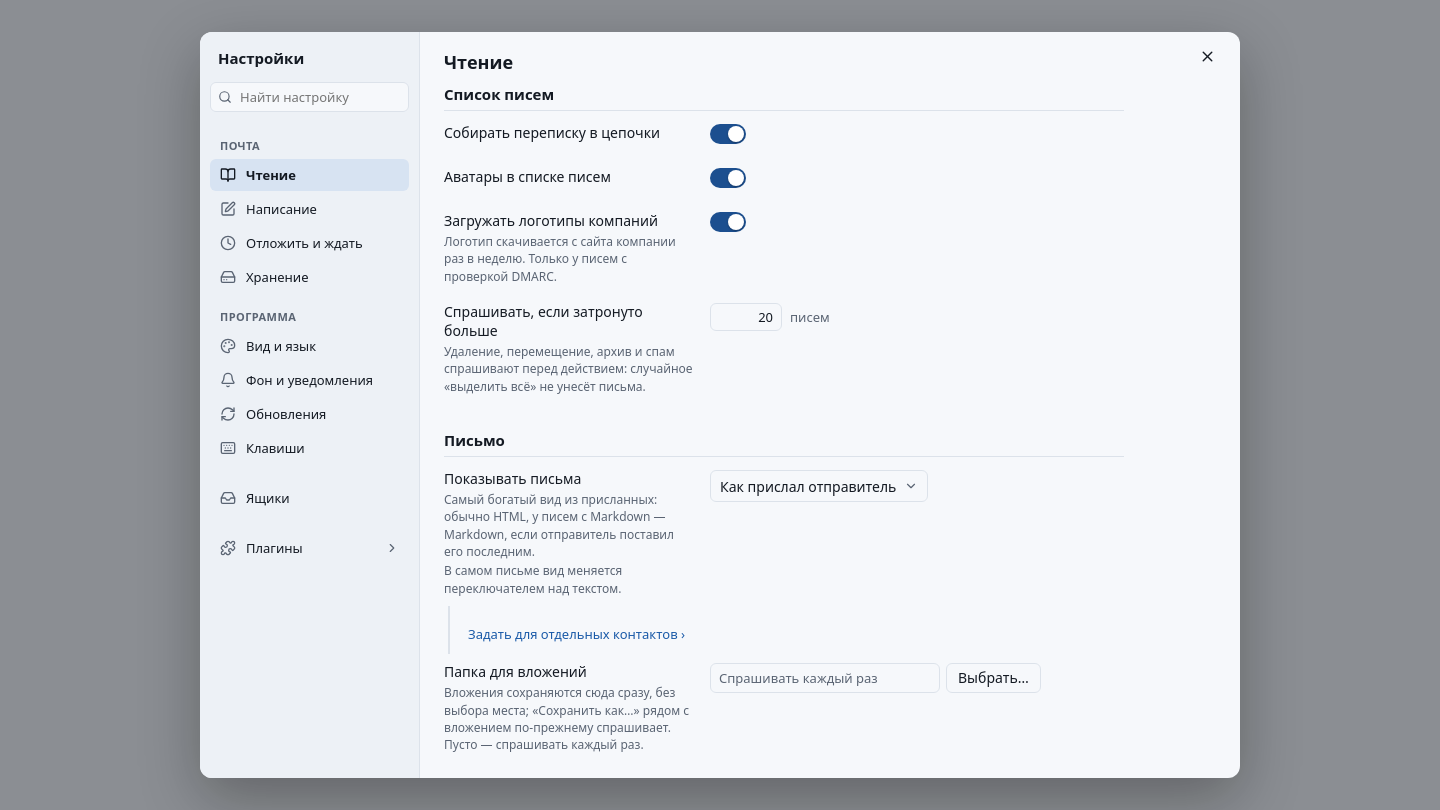
the search over the plugins' groups (0.8.2) › finds a plugin's group, and its link opens the plugin's page at the group, lit
Type "напоминания" into the search field with placeholder "Найти настройку".
click(320, 97); type("напоминания")  # box x1=238 y1=87 x2=401 y2=107
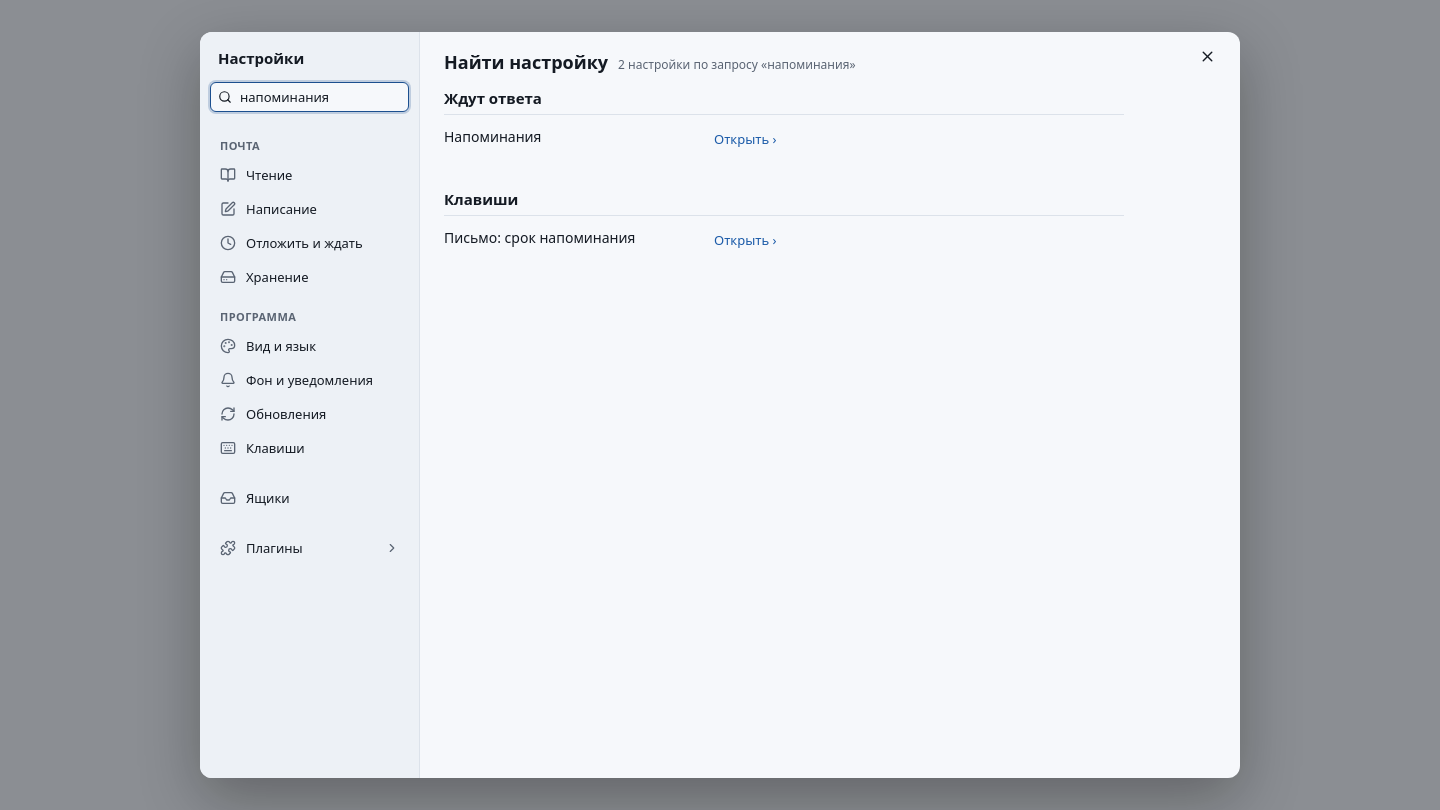
Click the button with class "lnk" below "Ждут ответа".
click(745, 139)  # box x1=710 y1=128 x2=781 y2=150
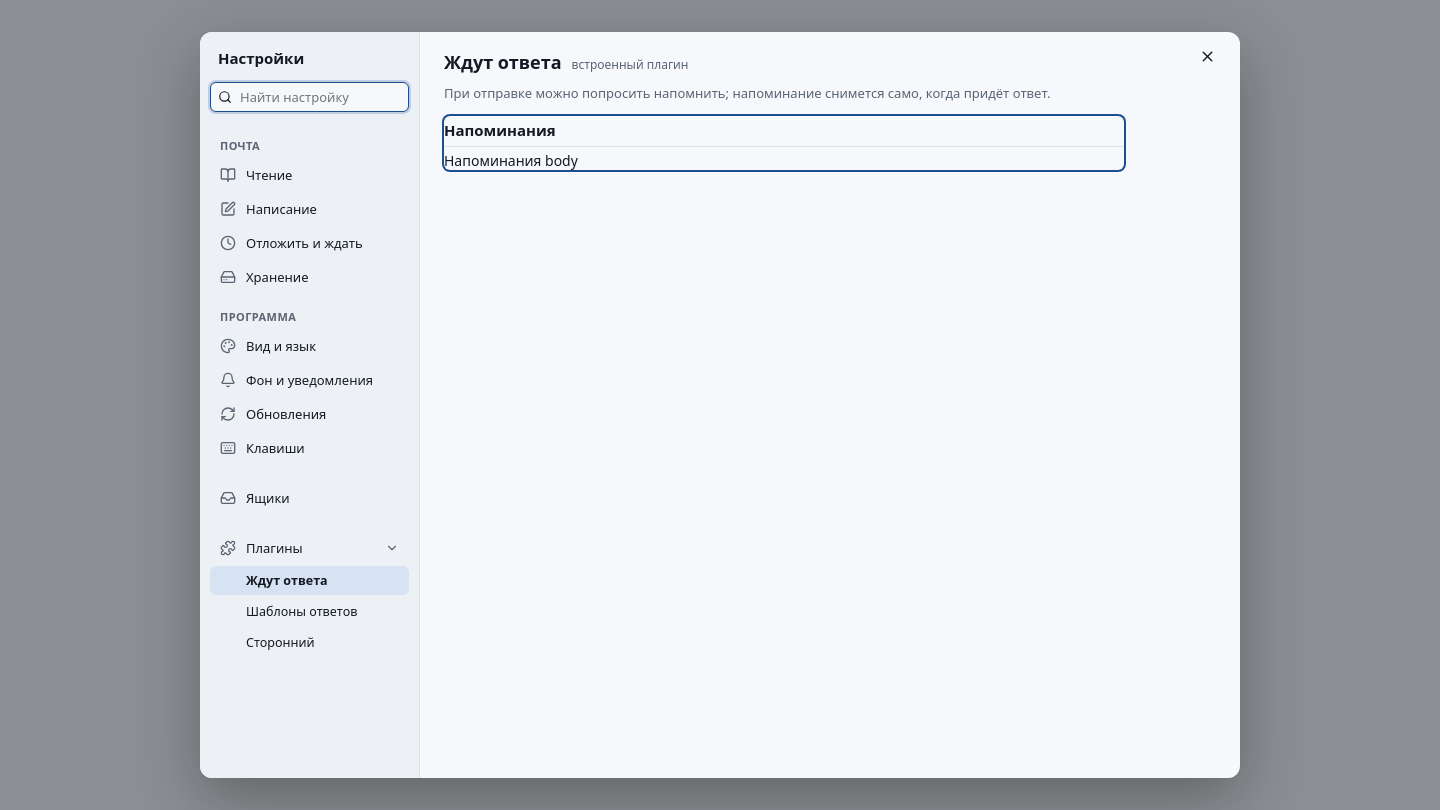
Check: the element showing "Напоминания Напоминания body" is shown, box x1=444 y1=116 x2=1124 y2=170
Check: the panel shows "Напоминания body", box x1=444 y1=151 x2=578 y2=170
